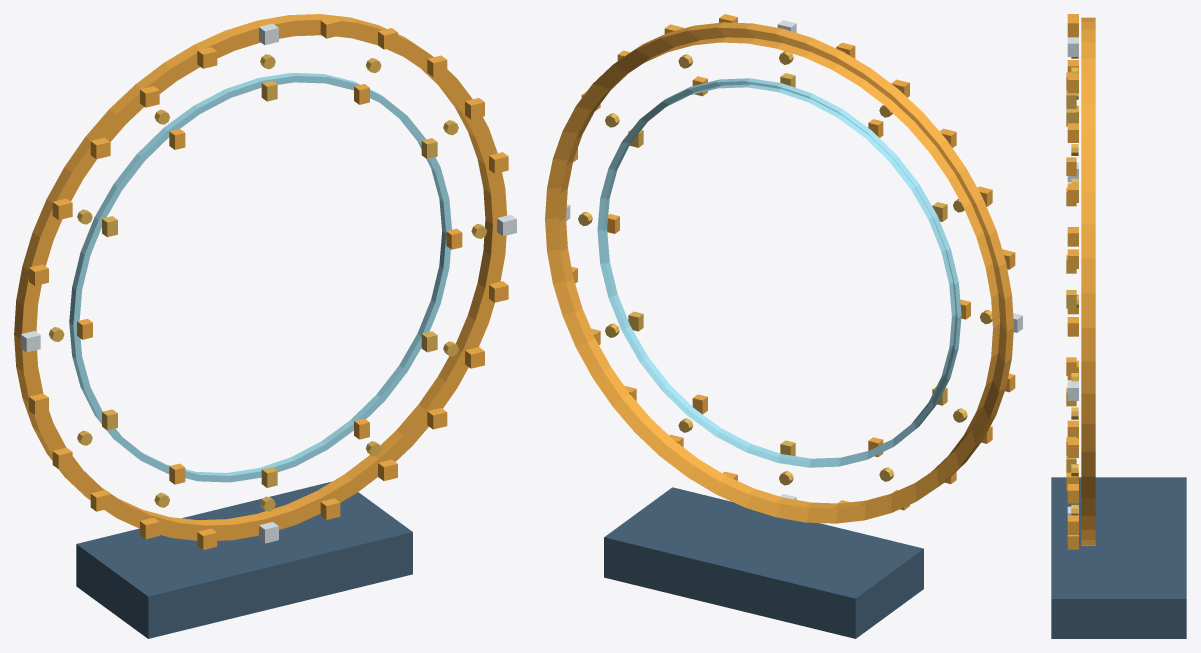
Rendered from 29_L80_MicroringResonatorChannelC.fbx.
The picture shows the model from 3 angles, left to right: view 1: azimuth 30°, elevation 25°; view 2: azimuth 150°, elevation 25°; view 3: azimuth 270°, elevation 25°; orthographic projection. The views are drawn at different scales.
Visible parts, largest first — view 1: MicroringResonatorChannelC_Part_0038, MicroringResonatorChannelC_Part_0000, MicroringResonatorChannelC_Part_0001; view 2: MicroringResonatorChannelC_Part_0000, MicroringResonatorChannelC_Part_0038, MicroringResonatorChannelC_Part_0001; view 3: MicroringResonatorChannelC_Part_0038, MicroringResonatorChannelC_Part_0000, MicroringResonatorChannelC_Part_0007, MicroringResonatorChannelC_Part_0002, MicroringResonatorChannelC_Part_0003, MicroringResonatorChannelC_Part_0004, MicroringResonatorChannelC_Part_0005, MicroringResonatorChannelC_Part_0006, MicroringResonatorChannelC_Part_0008, MicroringResonatorChannelC_Part_0009, MicroringResonatorChannelC_Part_0015, MicroringResonatorChannelC_Part_0023 (+2 smaller).
Part boxes in pixels (<box>): MicroringResonatorChannelC_Part_0038: <box>76,481,412,638</box>; MicroringResonatorChannelC_Part_0000: <box>14,14,506,540</box>; MicroringResonatorChannelC_Part_0001: <box>69,73,451,482</box>; MicroringResonatorChannelC_Part_0000: <box>545,22,1013,523</box>; MicroringResonatorChannelC_Part_0038: <box>604,487,923,638</box>; MicroringResonatorChannelC_Part_0001: <box>597,78,961,467</box>; MicroringResonatorChannelC_Part_0038: <box>1051,477,1186,638</box>; MicroringResonatorChannelC_Part_0000: <box>1081,17,1095,545</box>; MicroringResonatorChannelC_Part_0007: <box>1067,73,1078,93</box>; MicroringResonatorChannelC_Part_0002: <box>1067,381,1078,400</box>; MicroringResonatorChannelC_Part_0003: <box>1067,317,1078,336</box>; MicroringResonatorChannelC_Part_0004: <box>1067,249,1078,268</box>; MicroringResonatorChannelC_Part_0005: <box>1067,183,1078,202</box>; MicroringResonatorChannelC_Part_0006: <box>1067,123,1078,142</box>; MicroringResonatorChannelC_Part_0008: <box>1067,37,1078,56</box>; MicroringResonatorChannelC_Part_0009: <box>1067,17,1078,36</box>; MicroringResonatorChannelC_Part_0015: <box>1067,227,1078,246</box>; MicroringResonatorChannelC_Part_0023: <box>1067,515,1078,534</box>.
Bounding box in the file's own units: 157 × 175 × 40.
